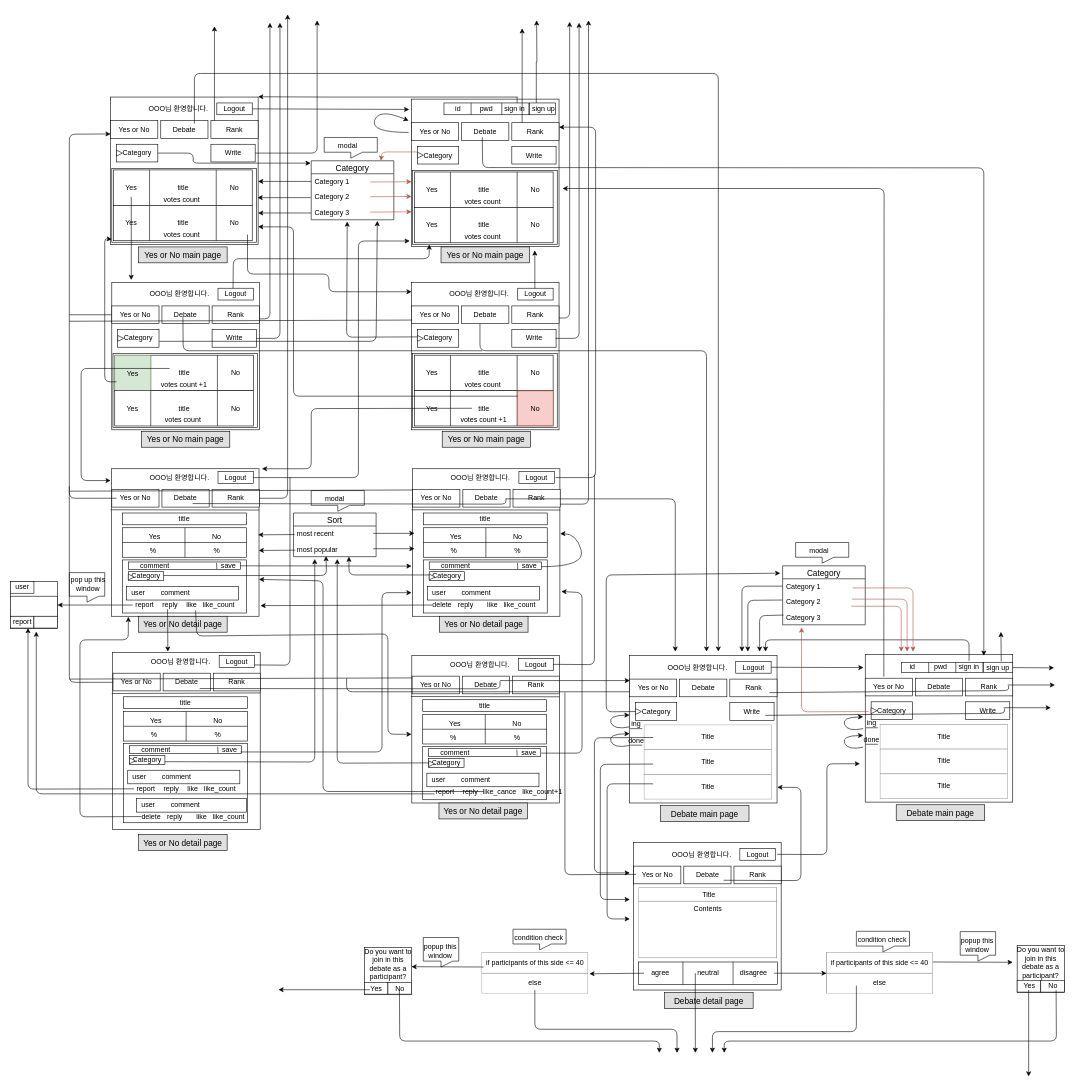
Image size: 1079x1092. Some labels were removed from this diagram. Here are the shapes that lost their labels. From the top down, the centre of each, then its label:
[34,606]: reason
[45,622]: cancel
